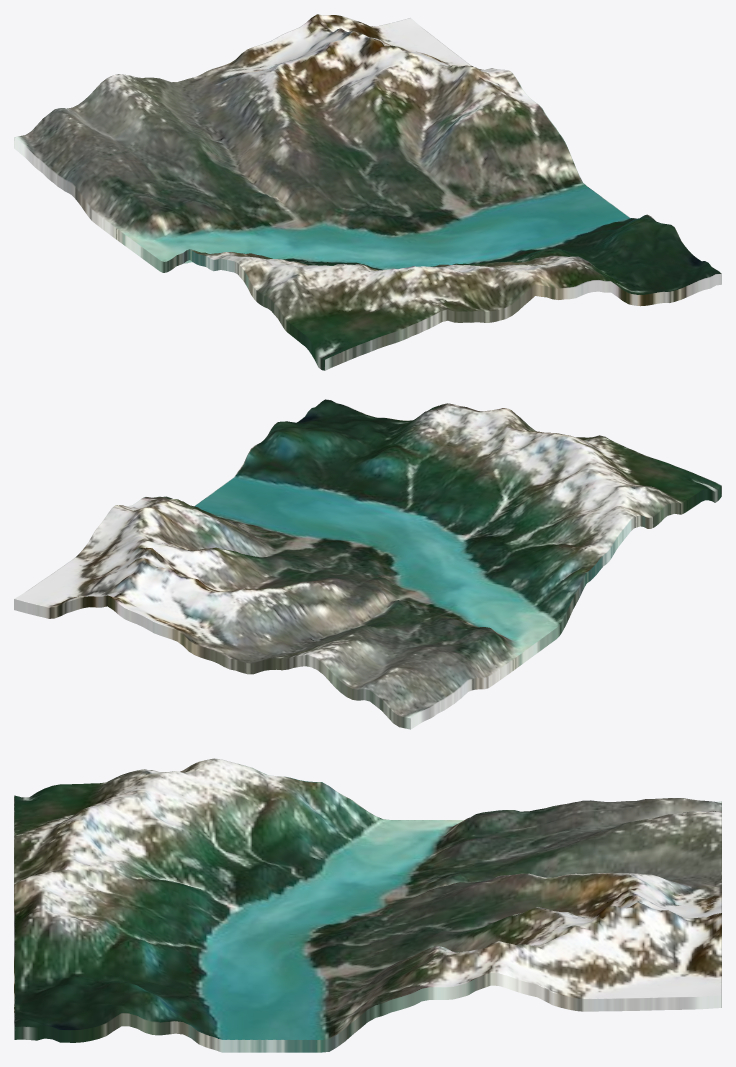
The picture shows the model from 3 angles, top to bottom: view 1: azimuth 30°, elevation 25°; view 2: azimuth 150°, elevation 25°; view 3: azimuth 270°, elevation 25°; orthographic projection. The views are drawn at different scales.
Visible parts, largest first — view 1: tile; view 2: tile; view 3: tile.
Boxes of the visible parts, x1=… form: tile: x1=14, y1=14, x2=721, y2=370; tile: x1=14, y1=399, x2=721, y2=729; tile: x1=14, y1=758, x2=721, y2=1052.
Size of the model in its own units: 8100 by 1687 by 11010.
1 material, 1 textured.
